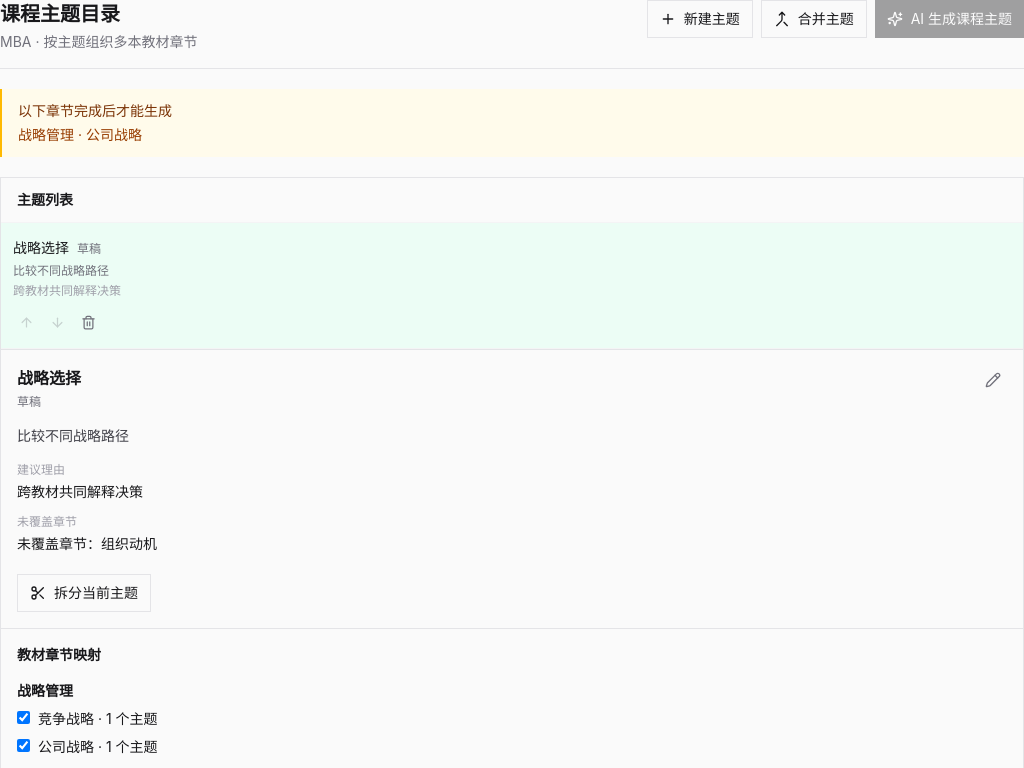
Test case: TopicMap › disables split for zero or all chapters and explains that one must remain
Step 1. Click the button "拆分当前主题" → (84, 593), box [17,574,151,612]
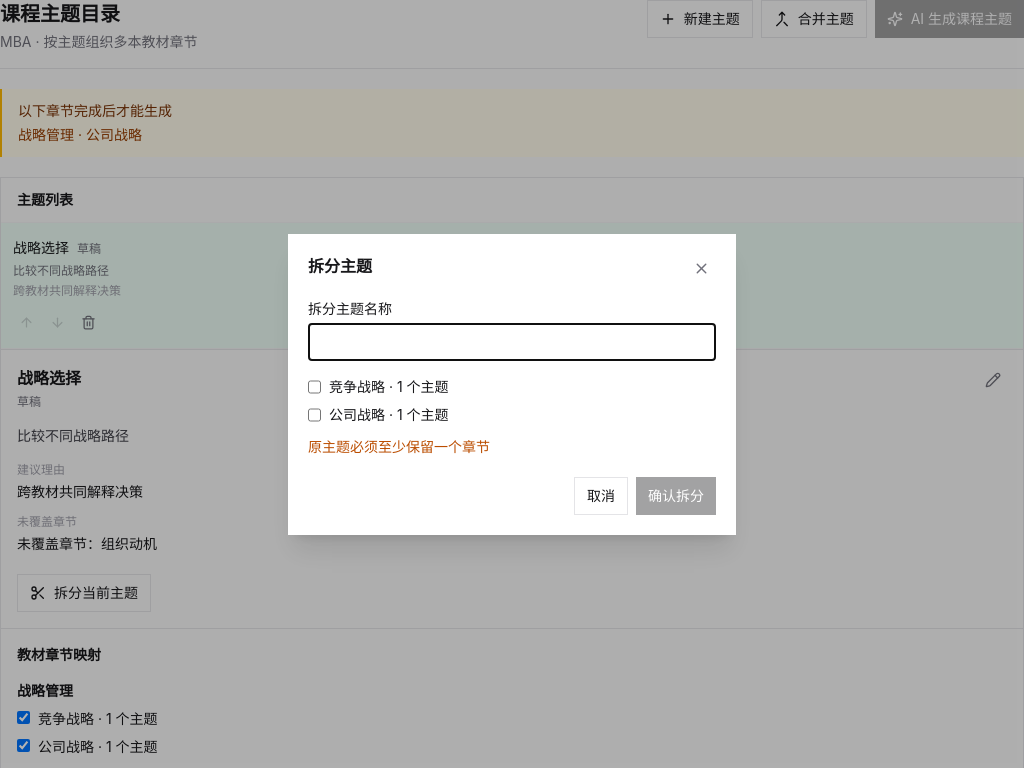
Step 2. Type "拆分主题" into the field labelled "拆分主题名称" → (512, 342), box [308,322,716,360]
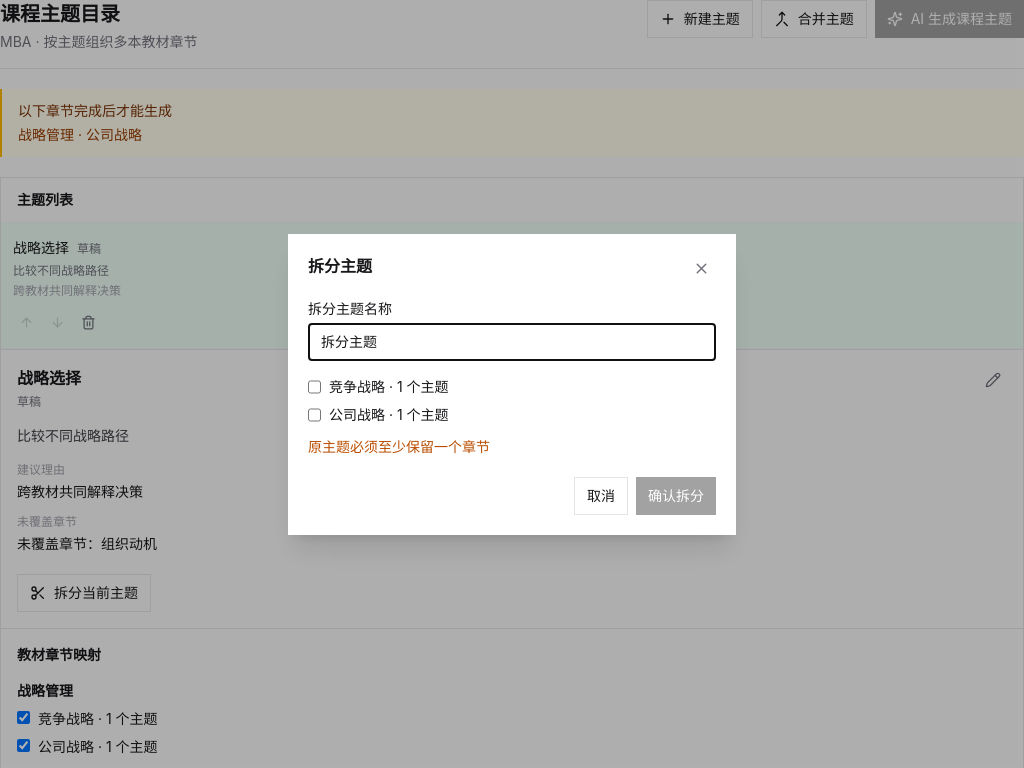
Expected: the button "确认拆分" is disabled, [636,476,716,514]
Expected: the text "原主题必须至少保留一个章节" is shown, [308,438,490,454]
Step 3. Click the checkbox labelled "竞争战略 · 1 个主题" → (314, 386), box [308,376,321,396]
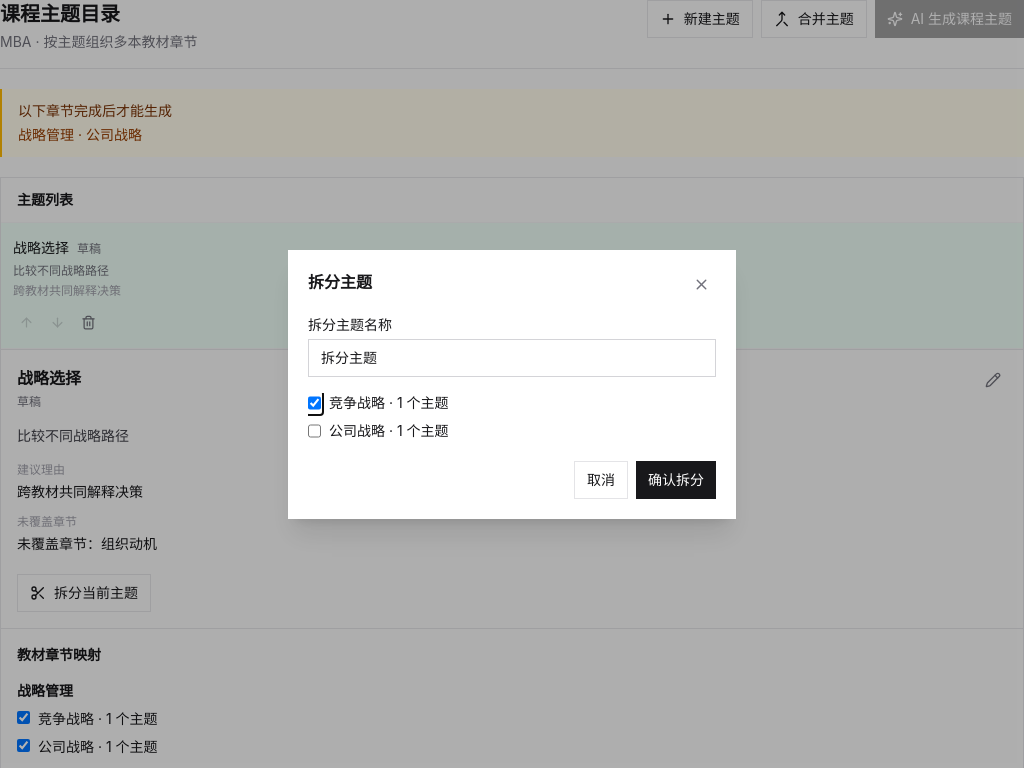
Step 4. Click the checkbox labelled "公司战略 · 1 个主题" → (314, 430), box [308,420,321,440]
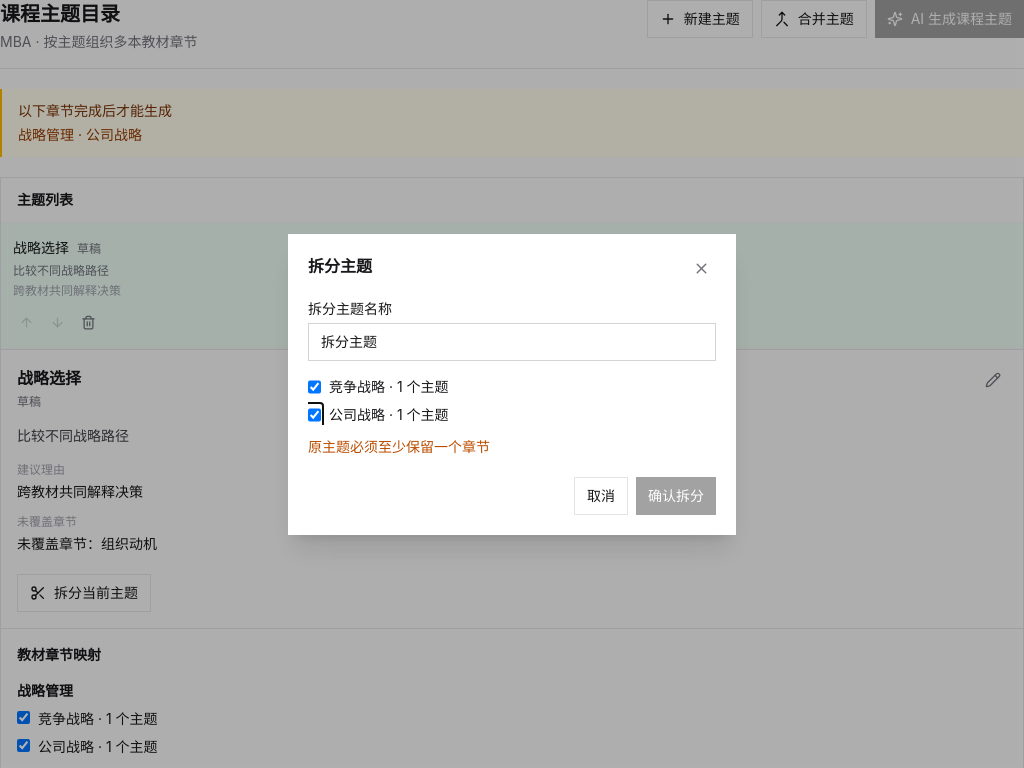
Expected: the button "确认拆分" is disabled, [636,476,716,514]
